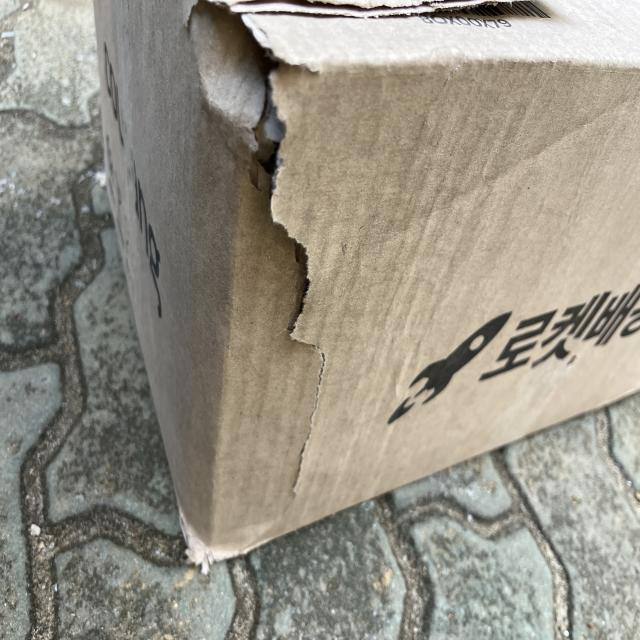wet: (157, 0, 580, 468)
